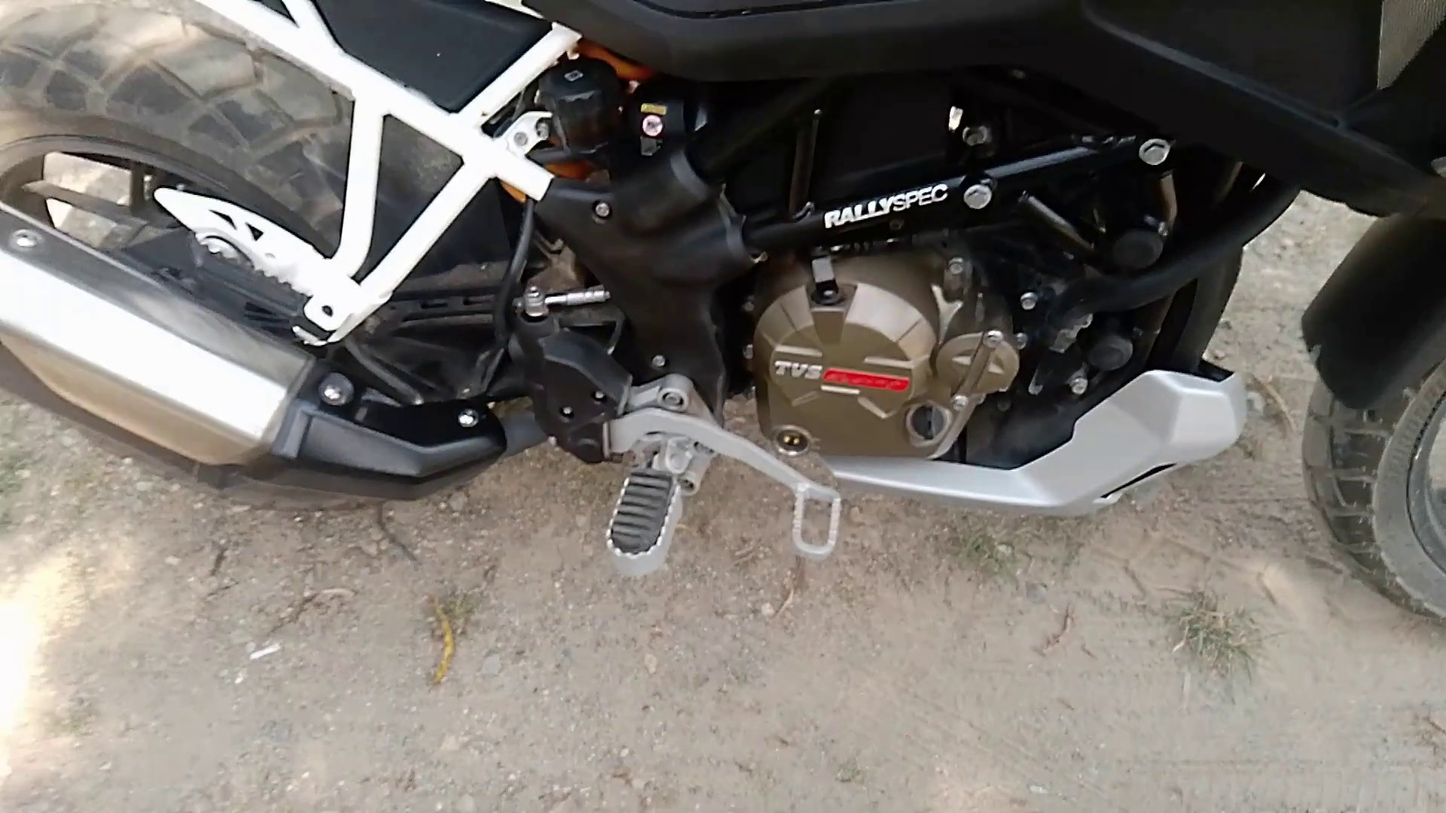bike-engine: (755, 253, 1023, 457)
bike-engine-level: (769, 420, 816, 453)
bike-oil-cap: (910, 398, 955, 445)
